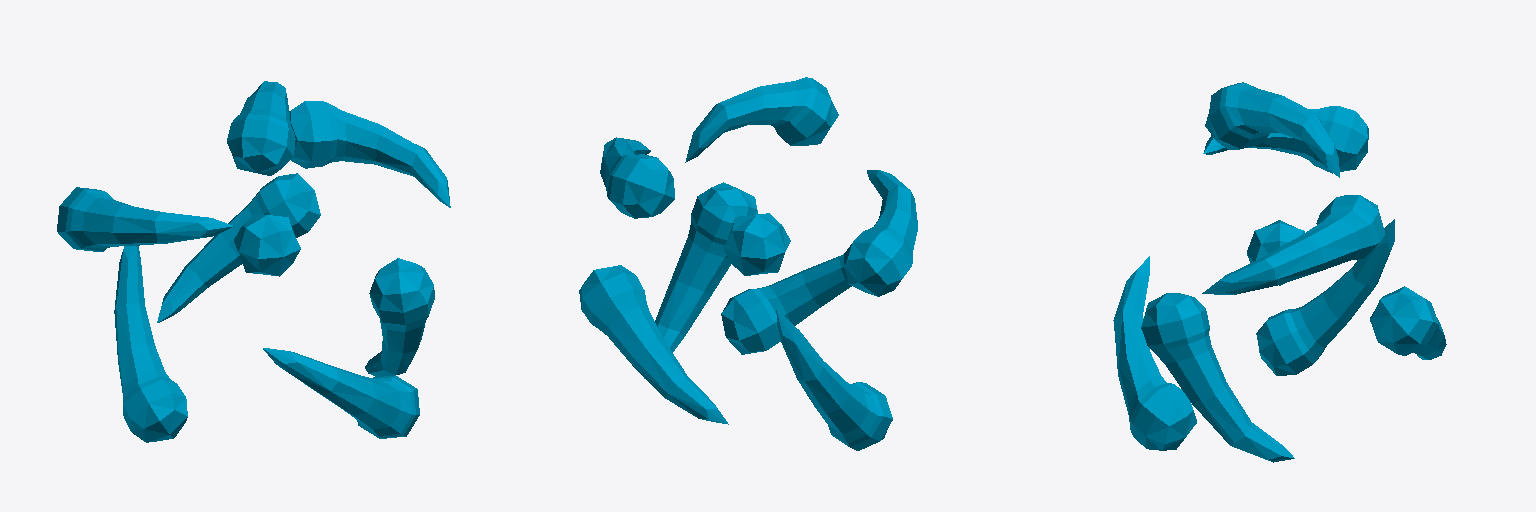
File: energy-star-9.obj
3 views of the same model, side by side, from view 1: azimuth 30°, elevation 25°; view 2: azimuth 150°, elevation 25°; view 3: azimuth 270°, elevation 25° (orthographic).
Visible parts, largest first — view 1: EnergyStar; view 2: EnergyStar; view 3: EnergyStar.
Part boxes in pixels (x1,y1,x2,y2): EnergyStar: (57,81,450,442); EnergyStar: (579,77,917,450); EnergyStar: (1113,82,1446,462).
Size of the model in its own units: 2.1 by 1.96 by 1.81.